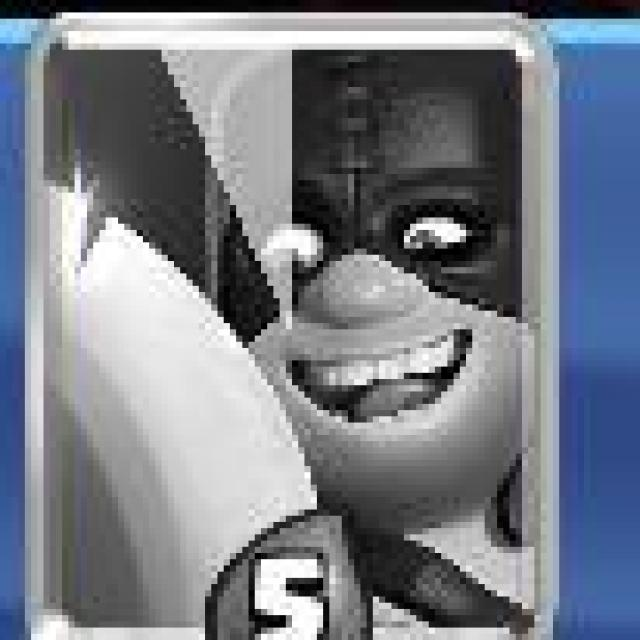Executioner: (18, 9, 560, 640)
